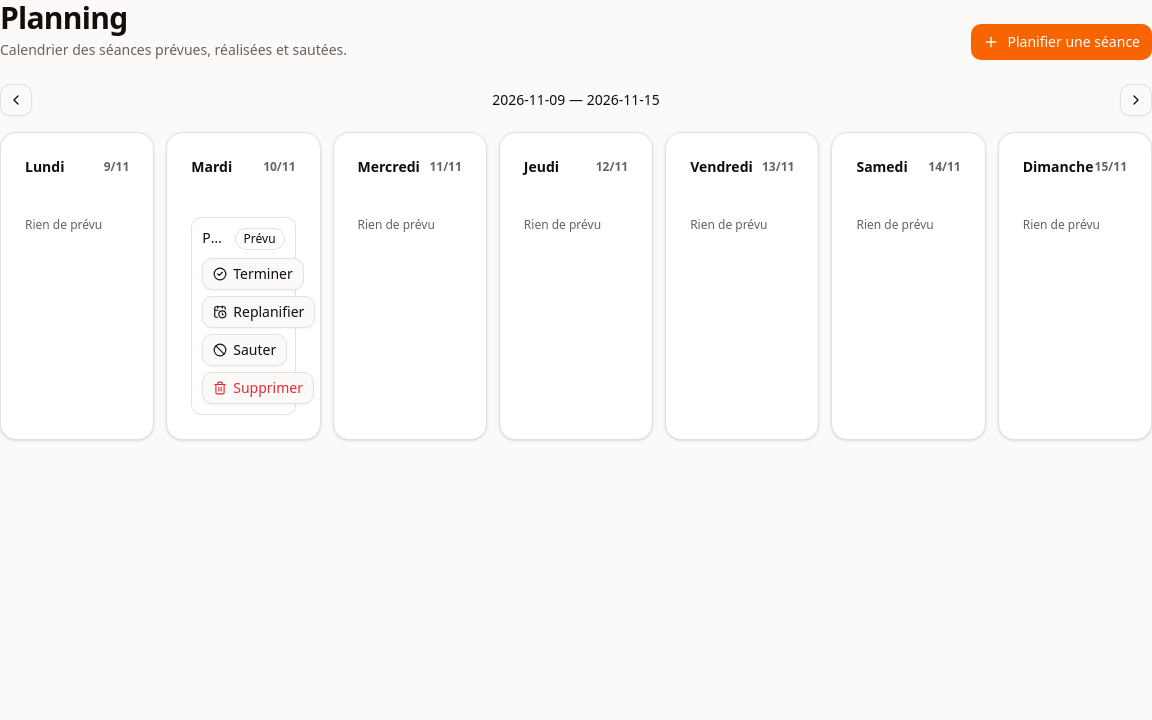
Scenario: PlanningPage › ouvre le formulaire de planification
The width and height of the screenshot is (1152, 720).
Expected: the text "Push day" is shown, top-left (202, 228), bottom-right (227, 248)
Step 1. Click the button "Planifier une séance" → [1062, 42], box top-left (972, 24), bottom-right (1151, 60)
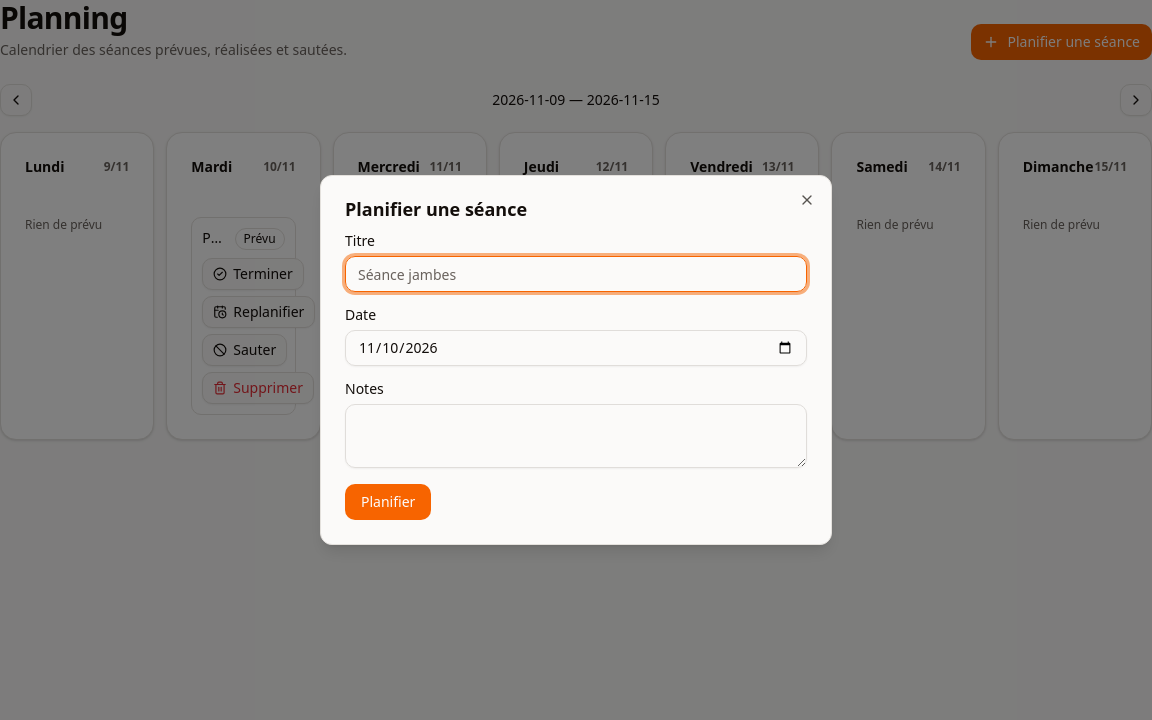
Now the dialog is shown, box top-left (320, 175), bottom-right (832, 545)
